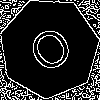O: (24, 23, 82, 84)
